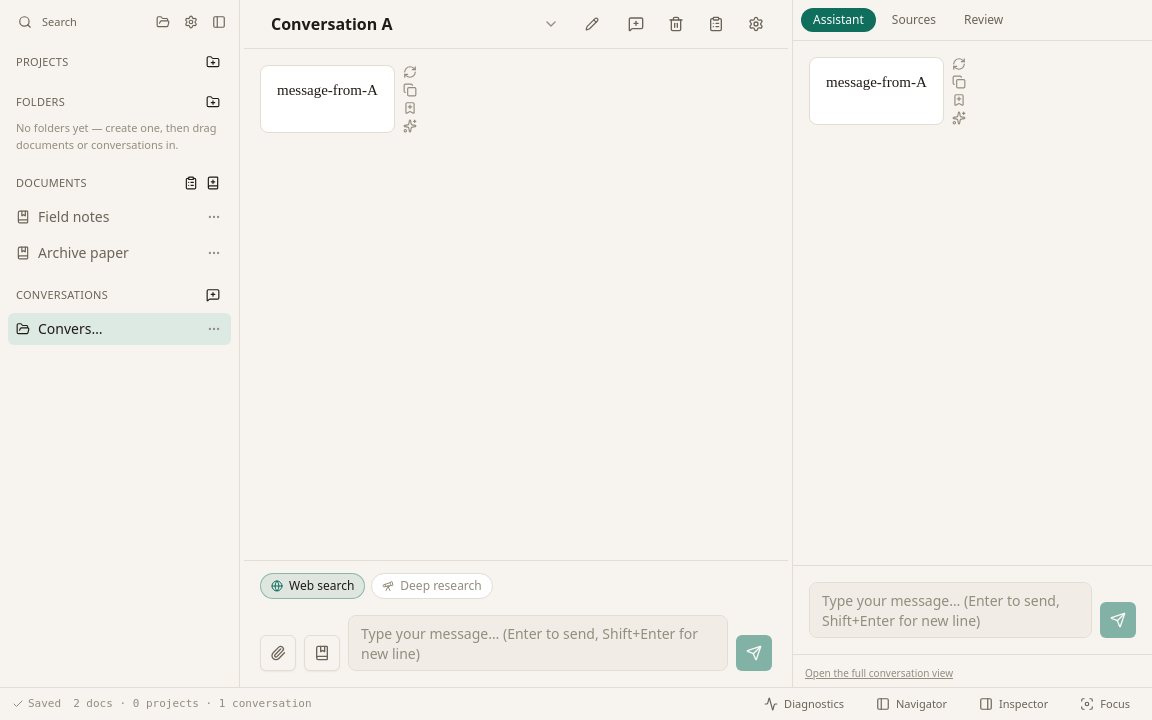
Test: composer library attachments › attaching works after the conversation loads behind an already-mounted chat
Click the button named "Attach a library document": (322, 653) [304,635,340,671]
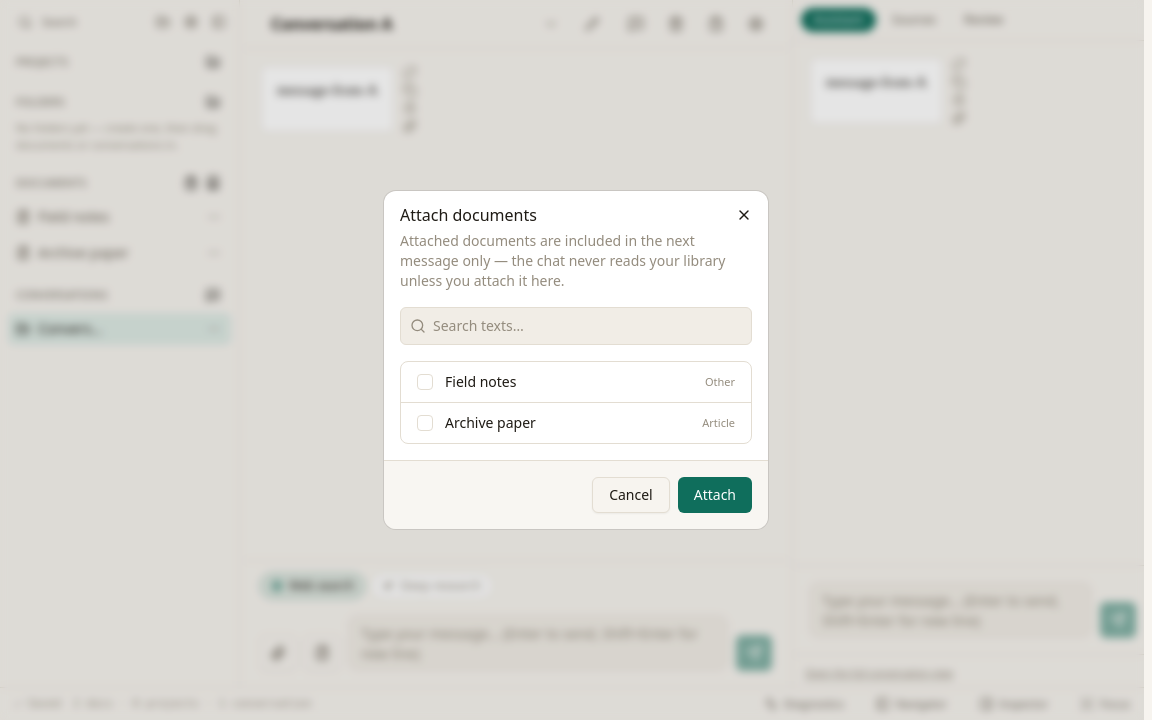
Click the checkbox in the row of "Other": (425, 382) [417,374,433,390]
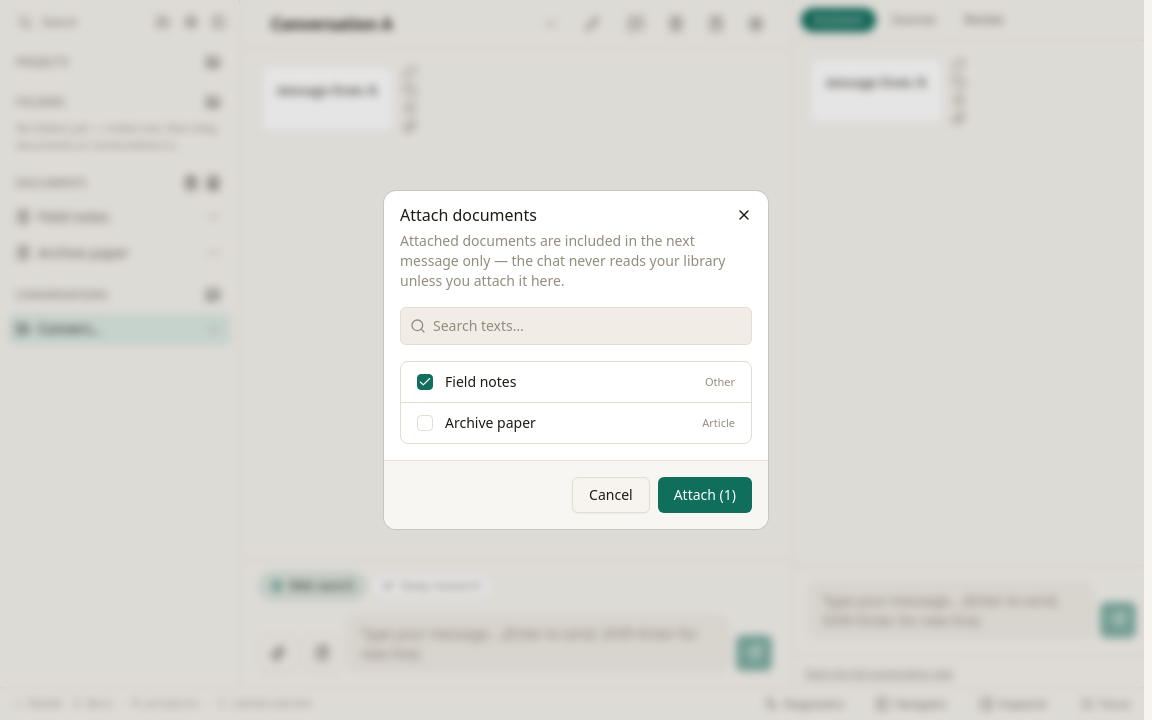
Click the button "Attach (1)": (705, 495) [658,477,752,513]
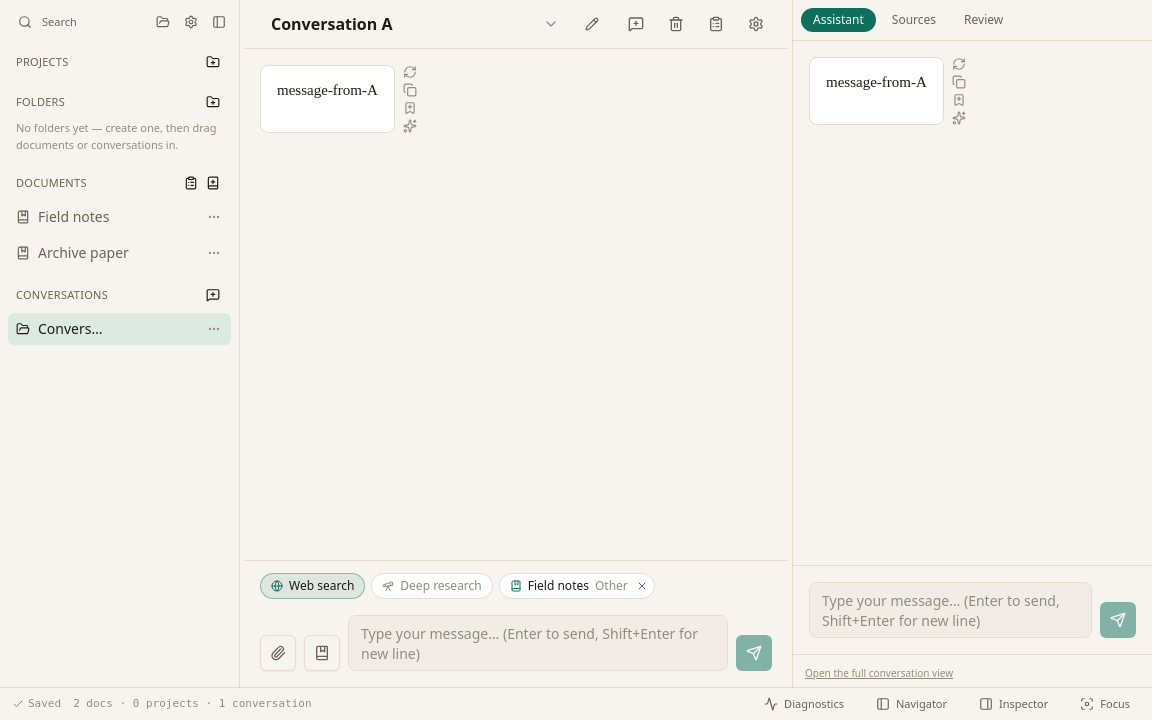
Check: the button named "Detach Field notes" is shown, box [634,578,650,594]
